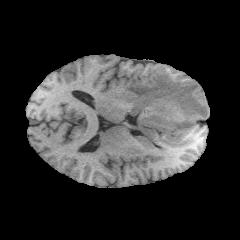glioma: (126, 72, 209, 151)
